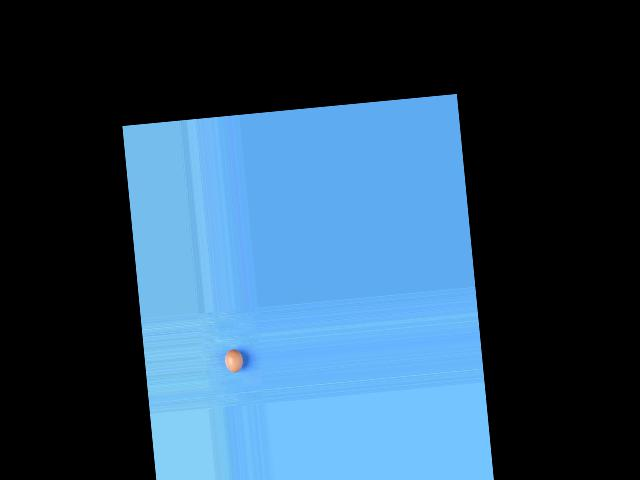egg: (223, 348, 244, 373)
